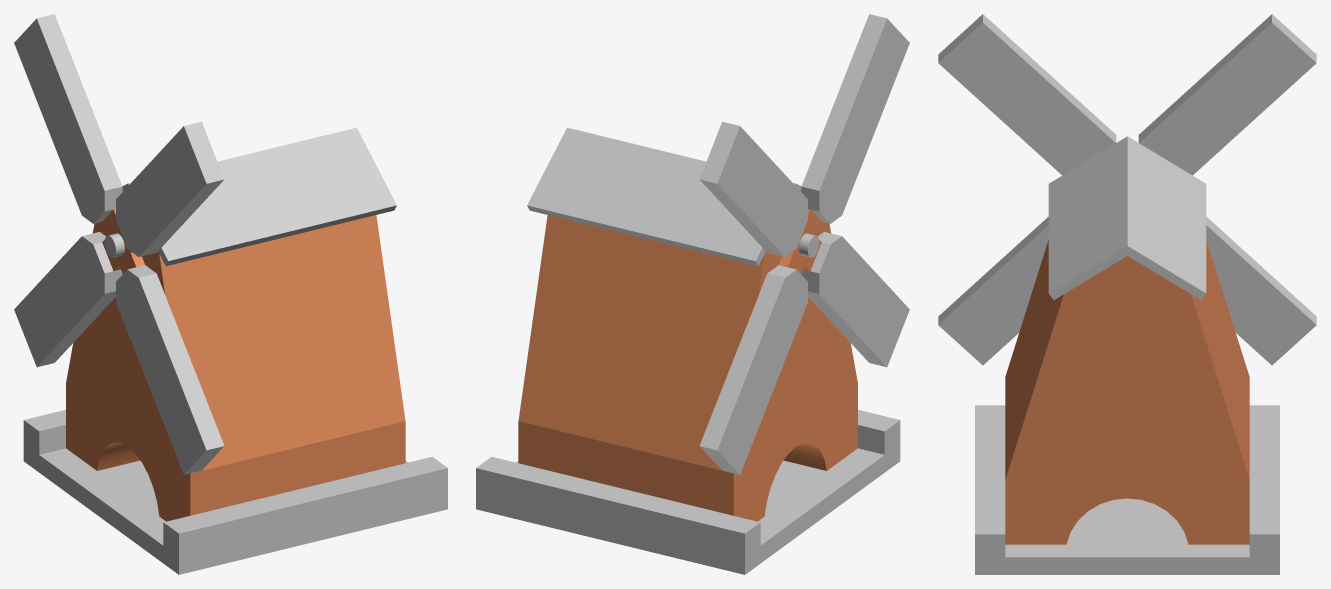
Rendered from windmill.obj.
3 renders of one model, left to right at view 1: azimuth 30°, elevation 25°; view 2: azimuth 150°, elevation 25°; view 3: azimuth 270°, elevation 25°, orthographic.
Parts seen in each view (by area): view 1: windmill, blades; view 2: windmill, blades; view 3: windmill, blades.
Boxes of the visible parts, x1=… form: windmill: x1=23, y1=127, x2=447, y2=574; blades: x1=14, y1=14, x2=224, y2=474; windmill: x1=476, y1=127, x2=900, y2=574; blades: x1=699, y1=14, x2=909, y2=474; windmill: x1=975, y1=136, x2=1279, y2=574; blades: x1=938, y1=14, x2=1316, y2=365.
Bounding box in the file's own units: 0.9999 × 1.58 × 1.24.
